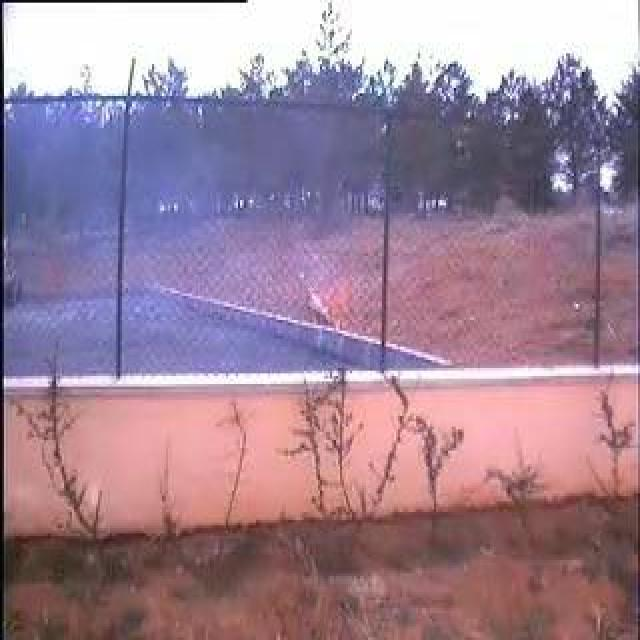Smoke: (121, 122, 311, 378)
